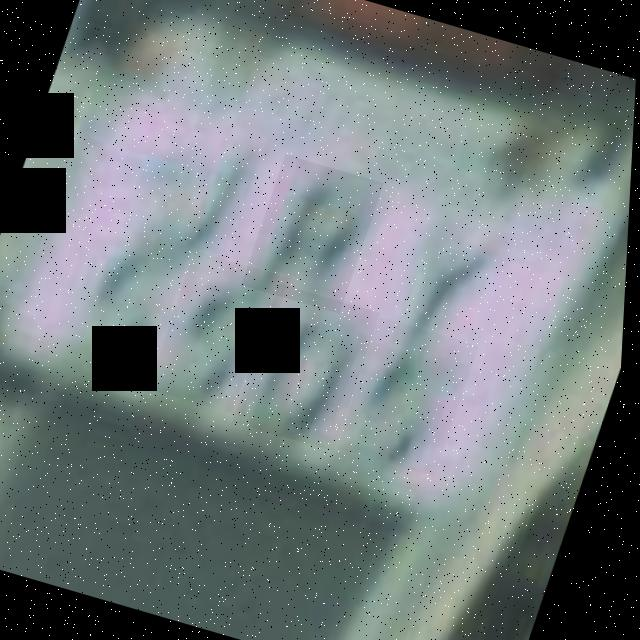0: (235, 283, 384, 451)
5: (151, 250, 293, 416), (339, 317, 483, 476)
R: (242, 154, 387, 313)
Y: (373, 200, 517, 360)
